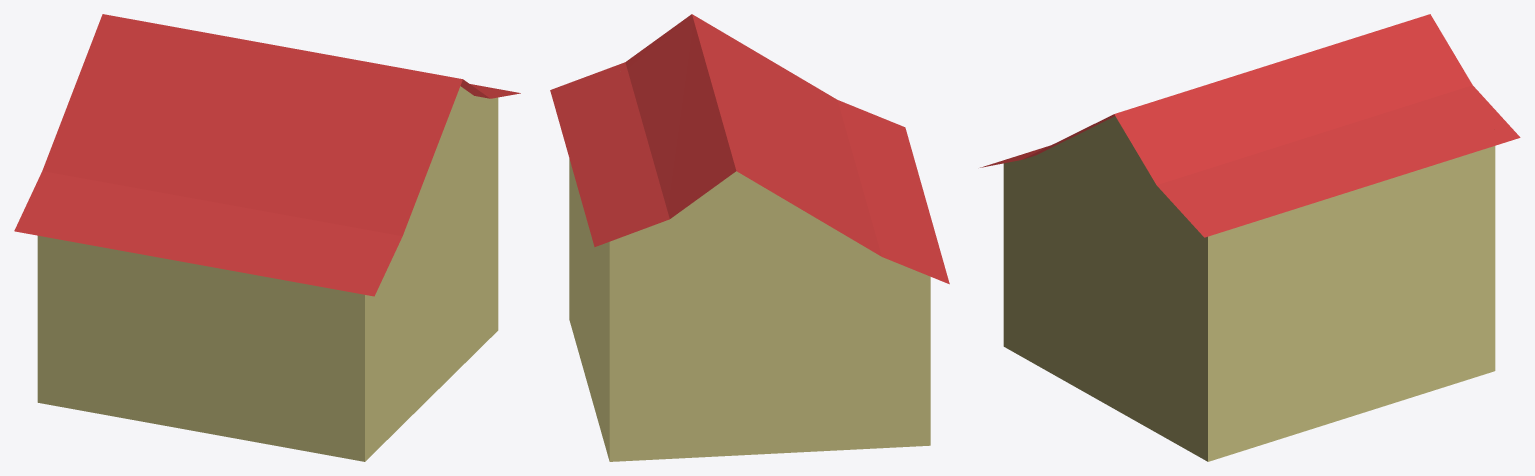
3 renders of one model, left to right at view 1: azimuth 30°, elevation 25°; view 2: azimuth 150°, elevation 25°; view 3: azimuth 270°, elevation 25°, orthographic. The views are drawn at different scales.
Bounding box in the file's own units: 22.28 × 22.42 × 14.04.
